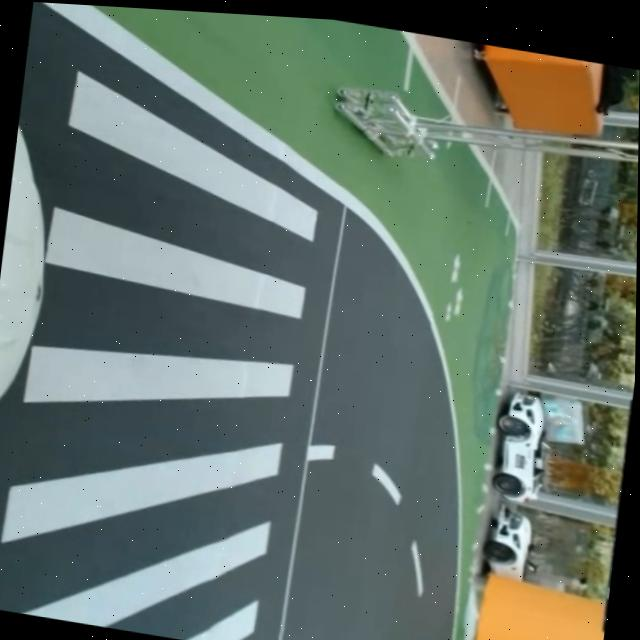traffic-light: (596, 390, 633, 639)
